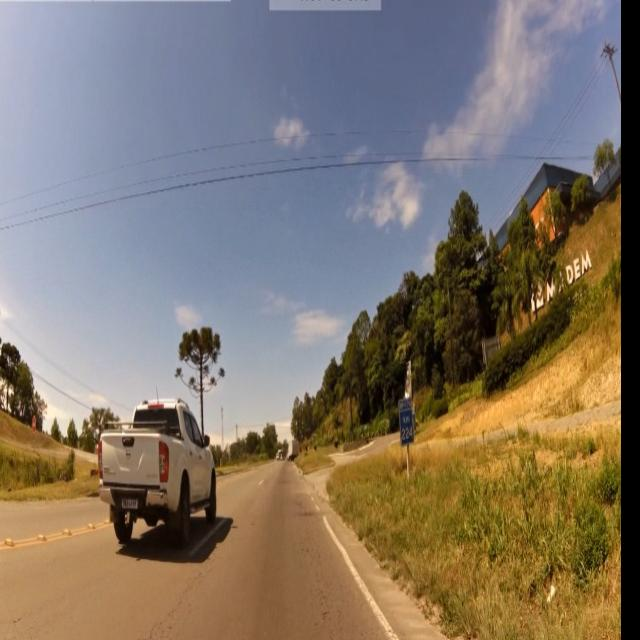RQ: (399, 402, 415, 448)
